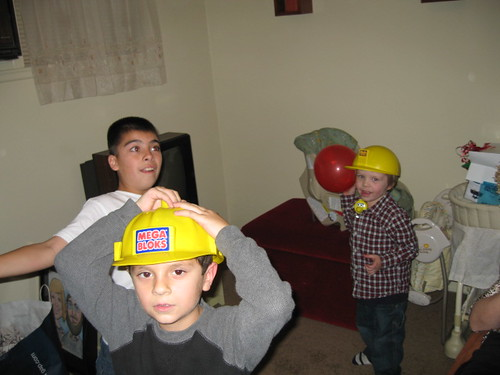person hardhat: (80, 201, 285, 375), (325, 142, 414, 375)
